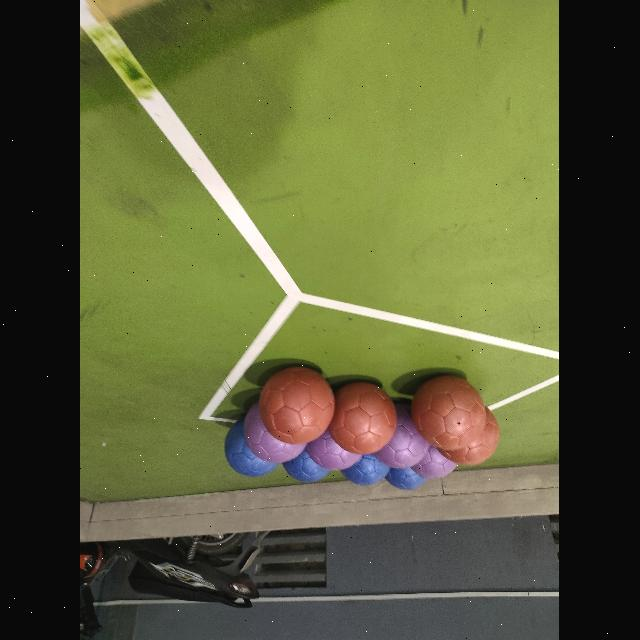B: (226, 418, 278, 478), (284, 432, 330, 482), (342, 439, 390, 485), (384, 448, 428, 492)
P: (245, 403, 308, 463), (376, 404, 430, 468), (307, 430, 363, 470)
R: (260, 368, 336, 444), (412, 376, 488, 448), (330, 384, 398, 454), (438, 402, 498, 470)
